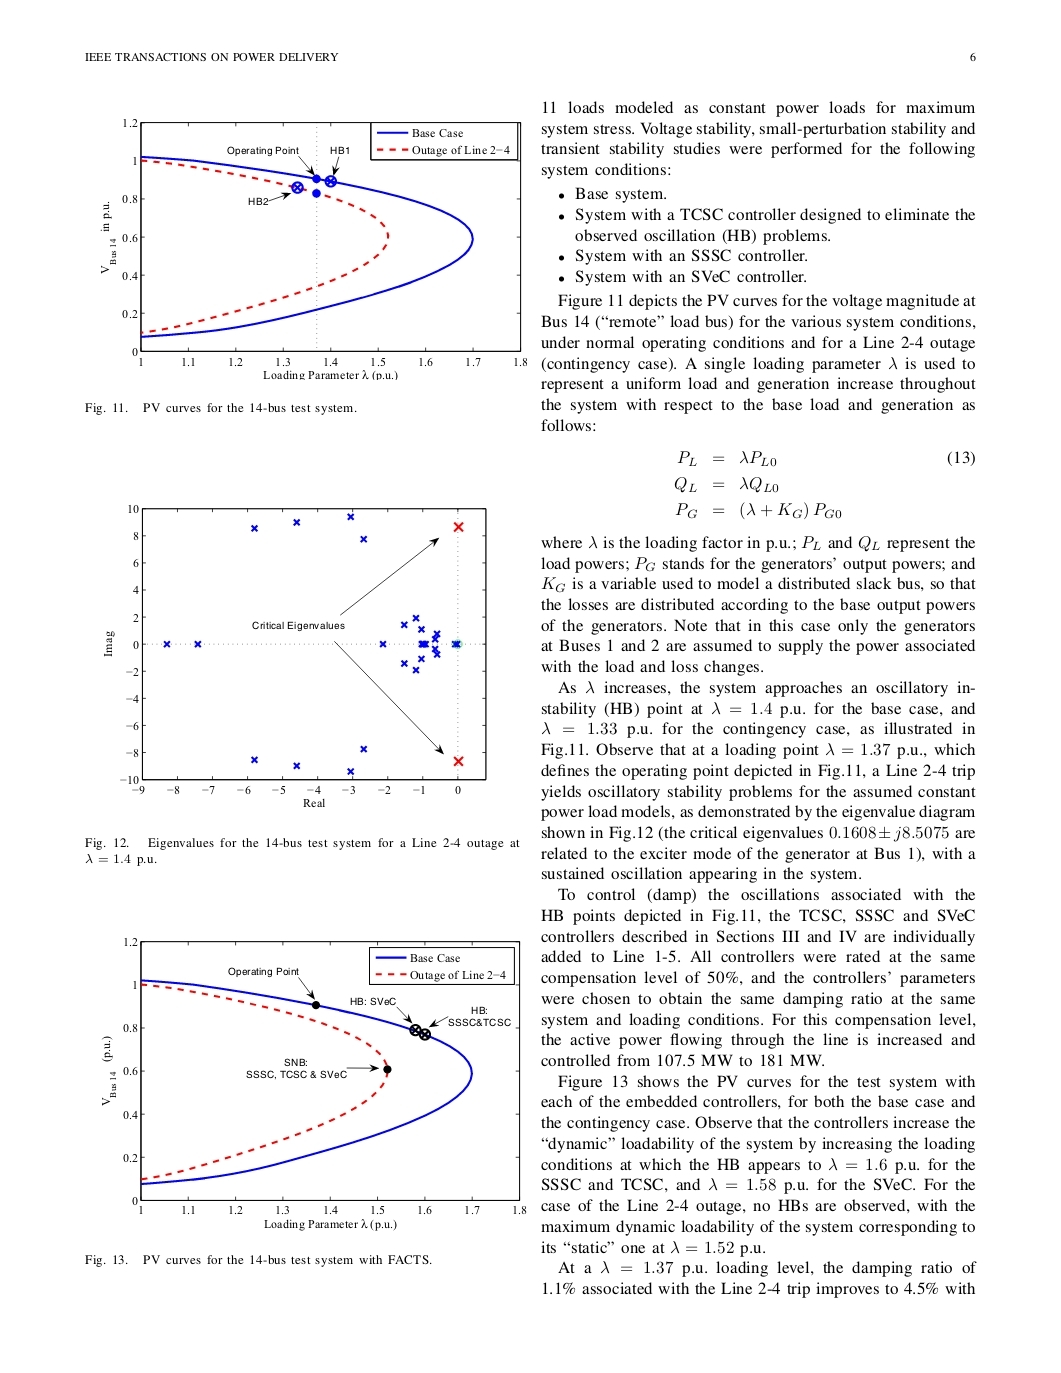figure: (101, 938, 526, 1230), (104, 505, 486, 807), (100, 119, 526, 379)
formula: (676, 450, 974, 467), (675, 502, 841, 520), (674, 475, 778, 493)
